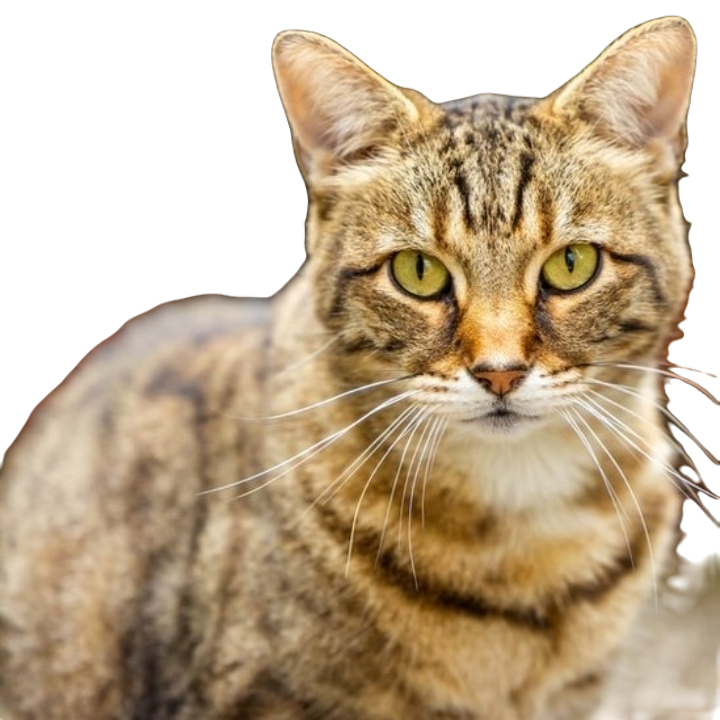Cat: (0, 14, 717, 719)
